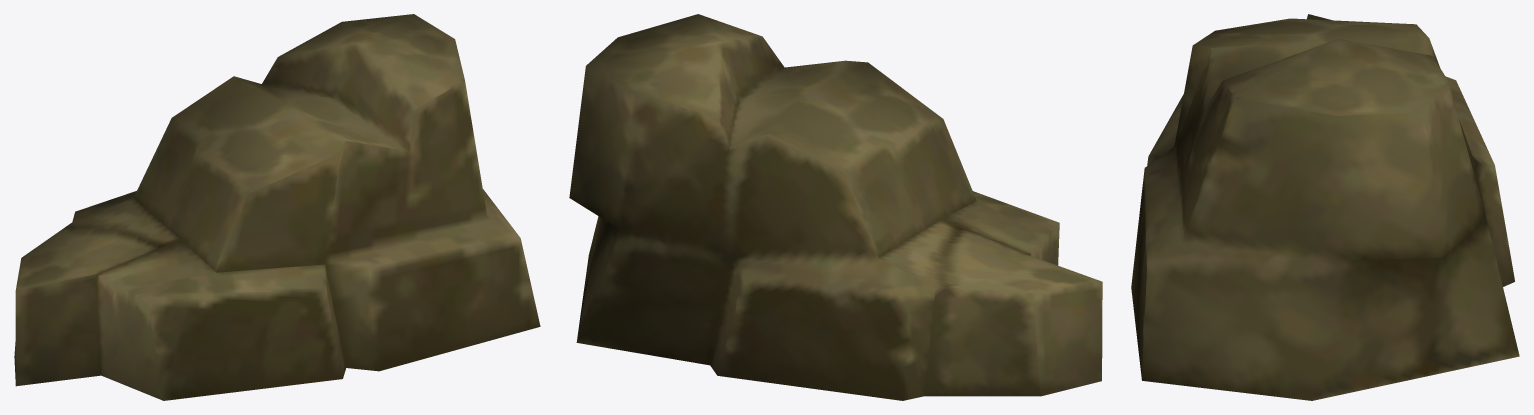
File: environment_common_Stonewall_001_c.FBX
The picture shows the model from 3 angles, left to right: view 1: azimuth 30°, elevation 25°; view 2: azimuth 150°, elevation 25°; view 3: azimuth 270°, elevation 25°; orthographic projection. The views are drawn at different scales.
Parts seen in each view (by area): view 1: environment_common_Stonewall_001_c; view 2: environment_common_Stonewall_001_c; view 3: environment_common_Stonewall_001_c.
Part boxes in pixels (x1=…): environment_common_Stonewall_001_c: x1=14, y1=14, x2=540, y2=400; environment_common_Stonewall_001_c: x1=569, y1=14, x2=1102, y2=400; environment_common_Stonewall_001_c: x1=1131, y1=14, x2=1519, y2=400.
Bounding box in the file's own units: 123 × 59.11 × 72.65.
Materials: 1 (1 with a texture image).
